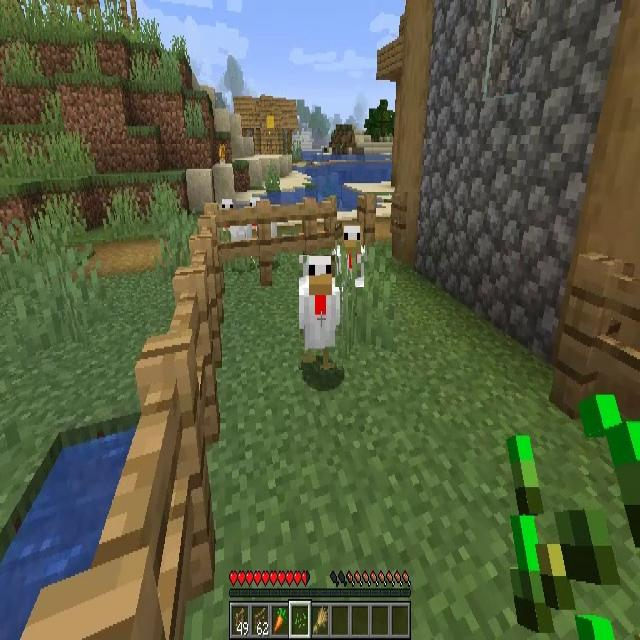duck: (299, 255, 342, 370), (335, 222, 364, 287), (246, 192, 275, 245), (223, 199, 251, 246)
